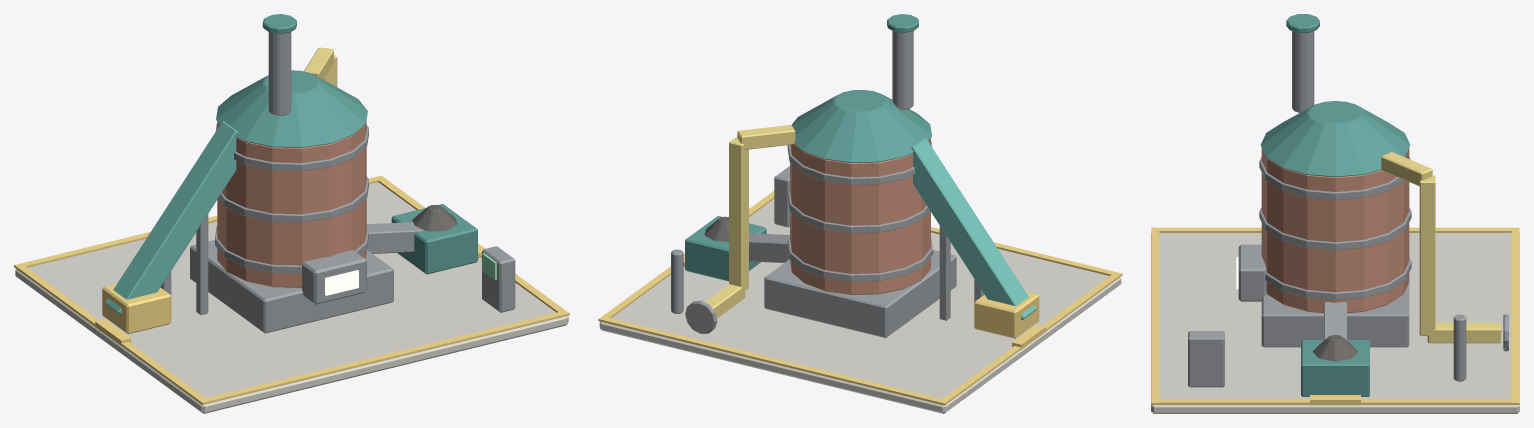
File: PyrolysisKiln.fbx
The picture shows the model from 3 angles, left to right: view 1: azimuth 30°, elevation 25°; view 2: azimuth 150°, elevation 25°; view 3: azimuth 270°, elevation 25°; orthographic projection. The views are drawn at different scales.
Parts seen in each view (by area): view 1: PK_Base, PK_Retort, PK_Dome, PK_FeedScrew, PK_Stand, PK_CharBin, PK_EdgeS, PK_FeedHopper, PK_Firebox, PK_Chimney, PK_ControlPanel, PK_EdgeW (+11 smaller); view 2: PK_Base, PK_Retort, PK_Dome, PK_Stand, PK_FeedScrew, PK_GasDrop, PK_EdgeN, PK_FeedHopper, PK_CharBin, PK_Chimney, PK_EdgeW, PK_Band1 (+12 smaller); view 3: PK_Base, PK_Retort, PK_Dome, PK_Stand, PK_CharBin, PK_GasDrop, PK_ControlPanel, PK_EdgeE, PK_Chimney, PK_EdgeN, PK_EdgeS, PK_Firebox (+11 smaller).
Boxes of the visible parts, x1,y1,x2,y2 form: PK_Base: (15, 182, 568, 413); PK_Retort: (217, 120, 366, 287); PK_Dome: (216, 70, 367, 147); PK_FeedScrew: (105, 121, 238, 314); PK_Stand: (190, 240, 393, 333); PK_CharBin: (391, 204, 477, 274); PK_EdgeS: (198, 310, 569, 404); PK_FeedHopper: (102, 283, 171, 334); PK_Firebox: (302, 250, 366, 304); PK_Chimney: (268, 32, 291, 115); PK_ControlPanel: (482, 246, 515, 312); PK_EdgeW: (18, 266, 205, 401); PK_Base: (599, 199, 1121, 413); PK_Retort: (790, 138, 930, 294); PK_Dome: (791, 90, 931, 162); PK_Stand: (764, 250, 956, 337); PK_FeedScrew: (911, 138, 1036, 319); PK_GasDrop: (729, 137, 748, 292); PK_EdgeN: (598, 316, 948, 405); PK_FeedHopper: (974, 291, 1039, 338); PK_CharBin: (685, 216, 766, 281); PK_Chimney: (892, 31, 913, 109); PK_EdgeW: (942, 275, 1118, 402); PK_Band1: (787, 237, 933, 281); PK_Base: (1151, 233, 1519, 413); PK_Retort: (1261, 148, 1409, 313); PK_Dome: (1260, 101, 1410, 177); PK_Stand: (1261, 283, 1409, 347); PK_CharBin: (1301, 340, 1369, 396); PK_GasDrop: (1419, 175, 1435, 335); PK_ControlPanel: (1188, 331, 1224, 387); PK_EdgeE: (1159, 399, 1511, 404); PK_Chimney: (1292, 31, 1314, 112); PK_EdgeN: (1511, 227, 1519, 404); PK_EdgeS: (1151, 227, 1159, 404); PK_Firebox: (1238, 244, 1266, 301).
Bounding box in the file's own units: 18 × 14.05 × 16.
